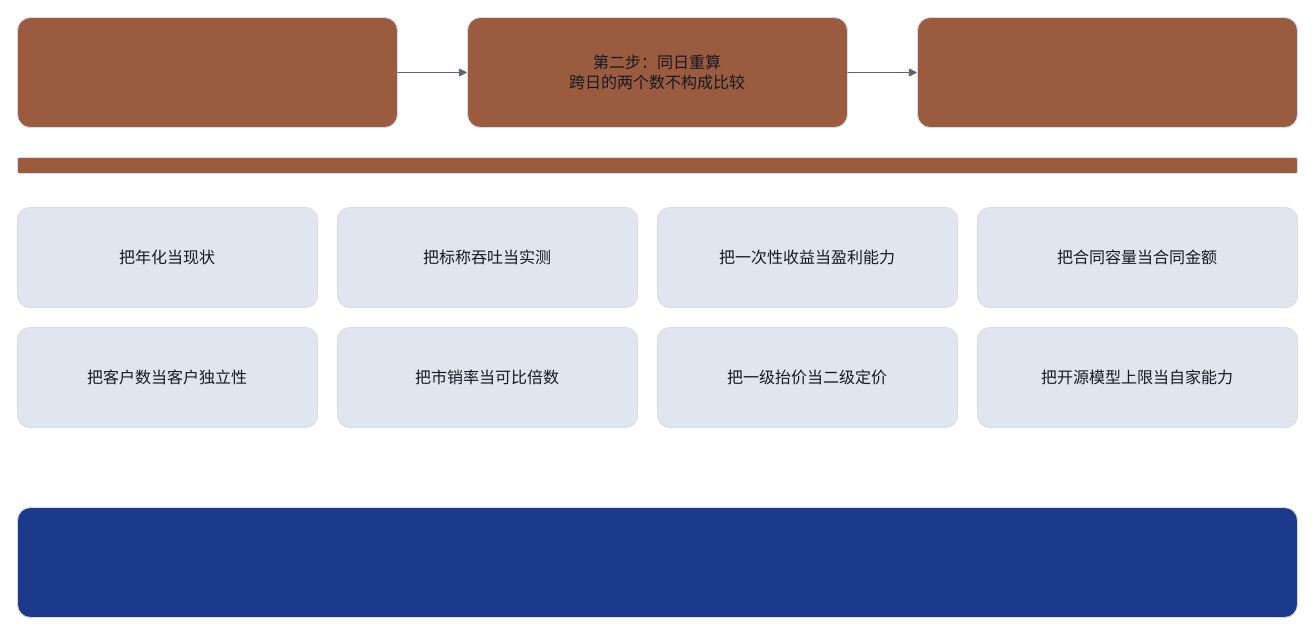
The diagram is 1315 pixels wide and 635 high, and some of its shapes have lost their labels. Here are the shapes that lost their labels. From the top down, the box of each, then its label:
(16, 16, 398, 128): 第一步：定锚 写下这个数字的分子与分母
(916, 16, 1298, 128): 第三步：勾验 问它写在哪份文件、哪一期
(16, 506, 1298, 618): 把方法留下 每个数字都挂来源与期次；下一步是自己去核最新一期，而不是相信这里
